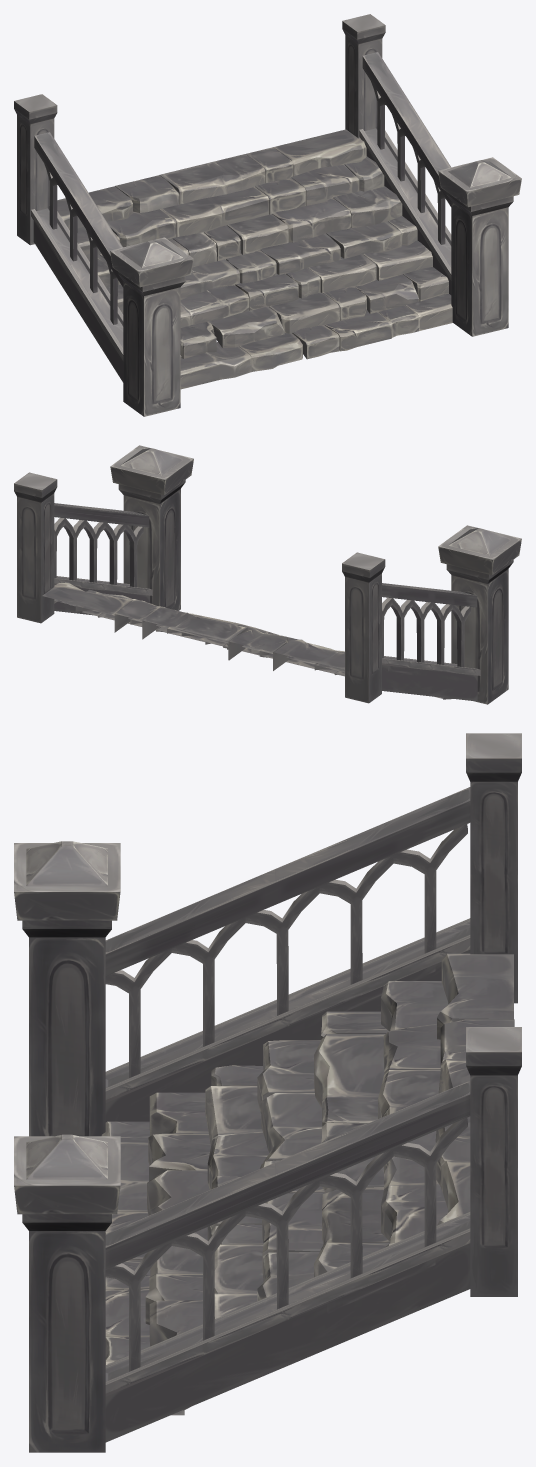
The model's file is taijie01.fbx.
3 renders of one model, top to bottom at view 1: azimuth 30°, elevation 25°; view 2: azimuth 150°, elevation 25°; view 3: azimuth 270°, elevation 25°, orthographic. The views are drawn at different scales.
Parts seen in each view (by area): view 1: TIJI002; view 2: TIJI002; view 3: TIJI002.
Boxes of the visible parts, box(x1,y1,x2,y2) form: TIJI002: box(14, 14, 521, 416); TIJI002: box(14, 445, 521, 704); TIJI002: box(14, 733, 521, 1452).
Bounding box in the file's own units: 134 × 72.36 × 83.76.
1 material, 1 textured.
